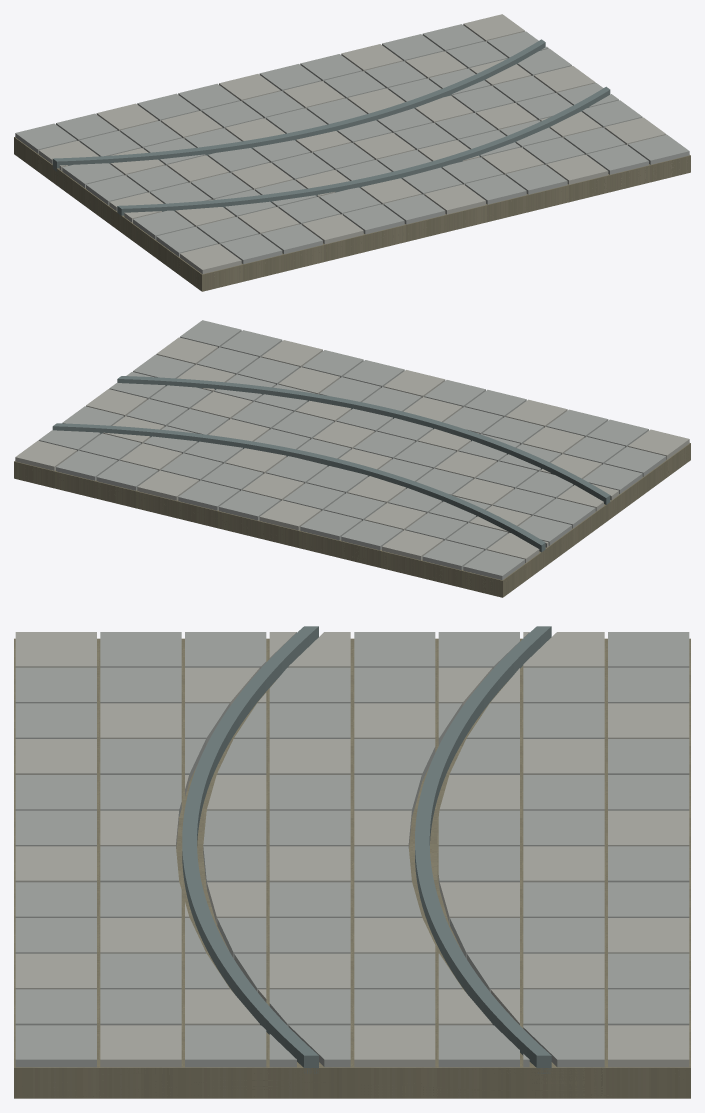
File: 059_curved_tram_track_paving.glb
3 views of the same model, one above another, from view 1: azimuth 30°, elevation 25°; view 2: azimuth 150°, elevation 25°; view 3: azimuth 270°, elevation 25° (orthographic). The views are drawn at different scales.
Visible parts, largest first — view 1: GND-059_pavers, Tram_subbase, GND-059_rails; view 2: GND-059_pavers, Tram_subbase, GND-059_rails; view 3: GND-059_pavers, Tram_subbase, GND-059_rails.
Boxes of the visible parts, x1,y1,x2,y2 form: GND-059_pavers: (15,14,689,274); Tram_subbase: (14,137,690,291); GND-059_rails: (52,39,610,217); GND-059_pavers: (15,320,689,580); Tram_subbase: (14,443,690,597); GND-059_rails: (52,376,610,552); GND-059_pavers: (15,632,689,1067); Tram_subbase: (14,638,690,1098); GND-059_rails: (182,626,551,1073).
Bounding box in the file's own units: 4.8 × 0.225 × 3.2.
Materials: 4 (1 with a texture image).
